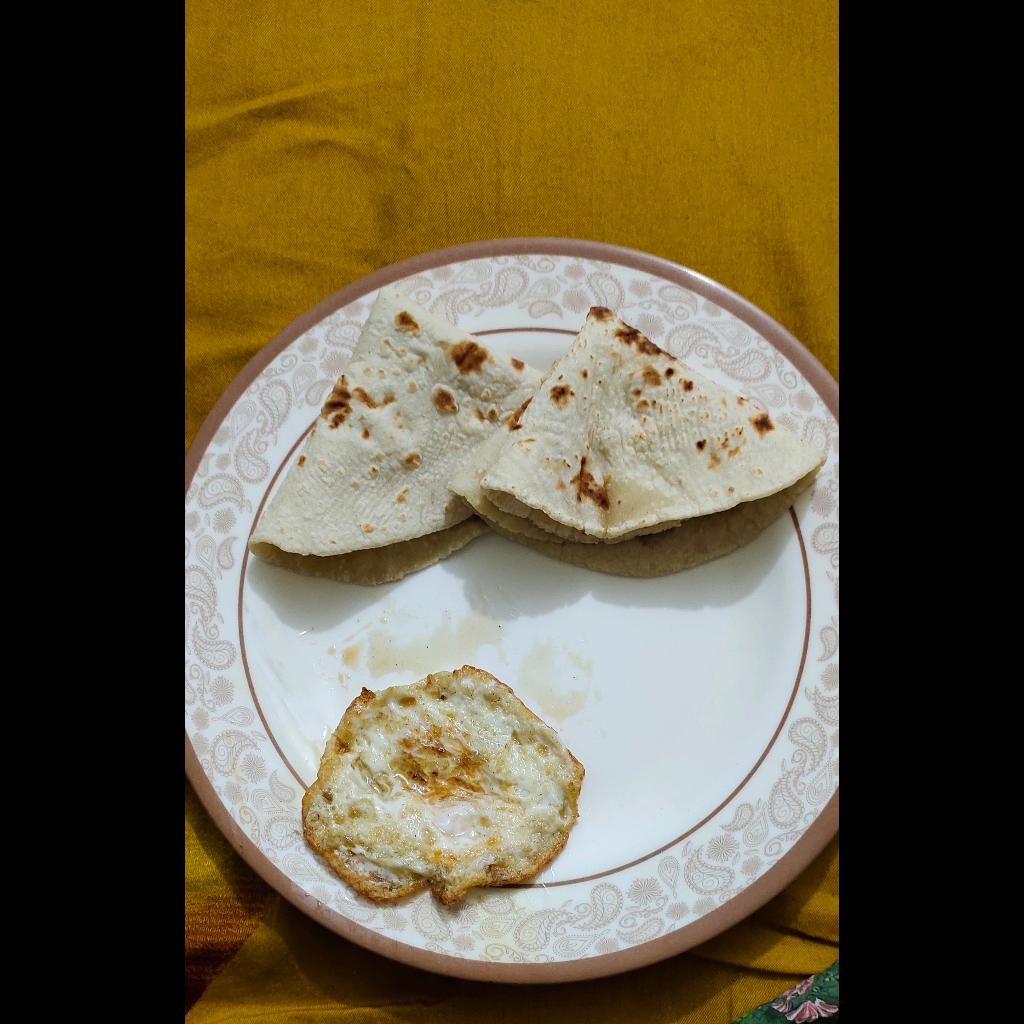egg-poached: (303, 662, 584, 905)
ruti: (252, 283, 826, 588)
